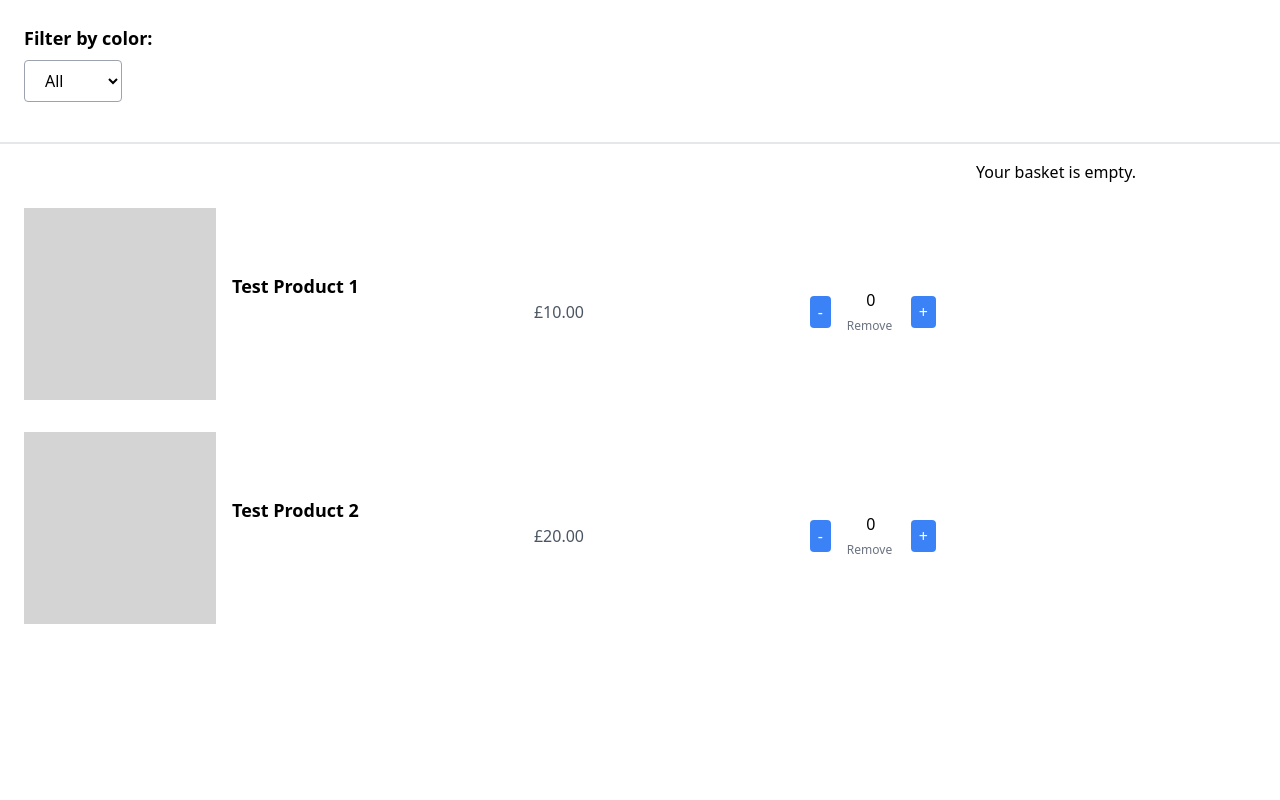
Test case: App › when no error › methods › filters the products based on color
This screenshot has width=1280, height=800.
Select "Black" in the dropdown with test id "color-filter". click: (73, 81)
box: x1=24 y1=60 x2=122 y2=102
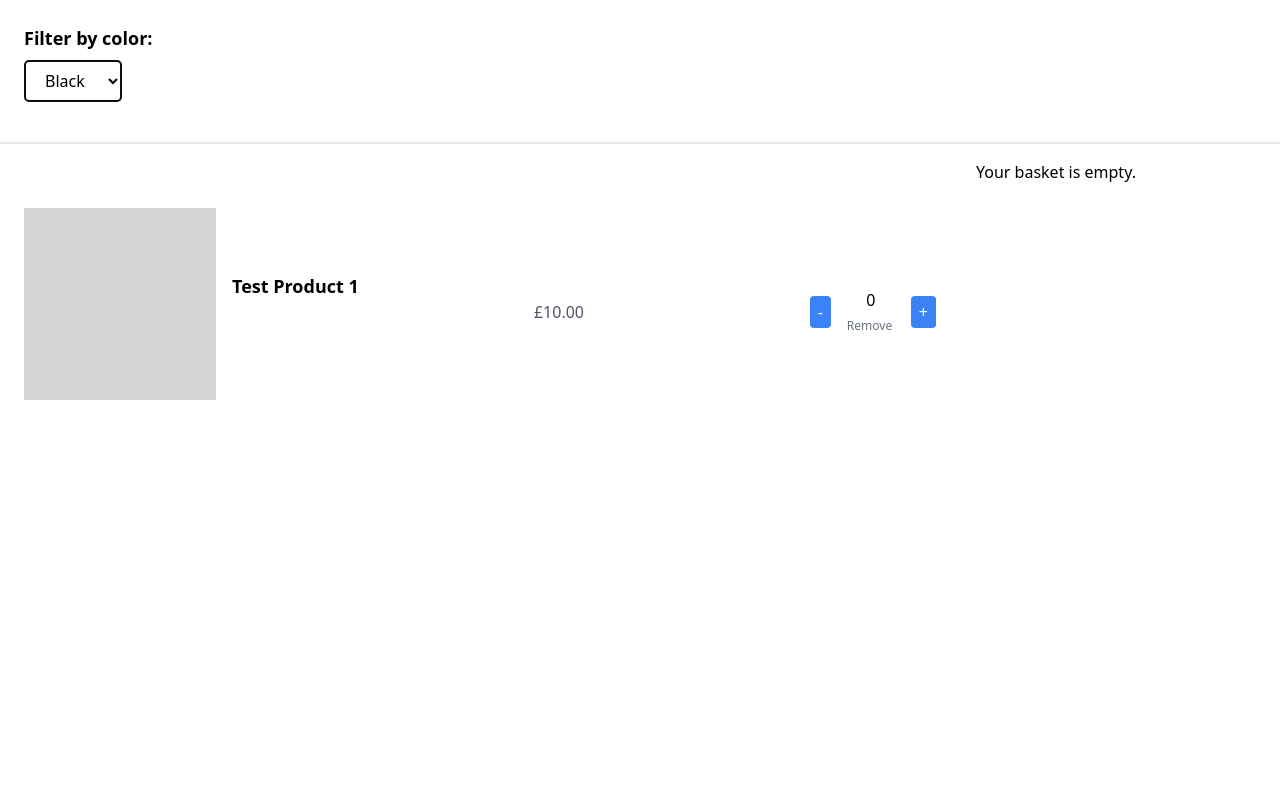
Now the number of elements with test id "product-card" is 1, box x1=24 y1=192 x2=936 y2=416
